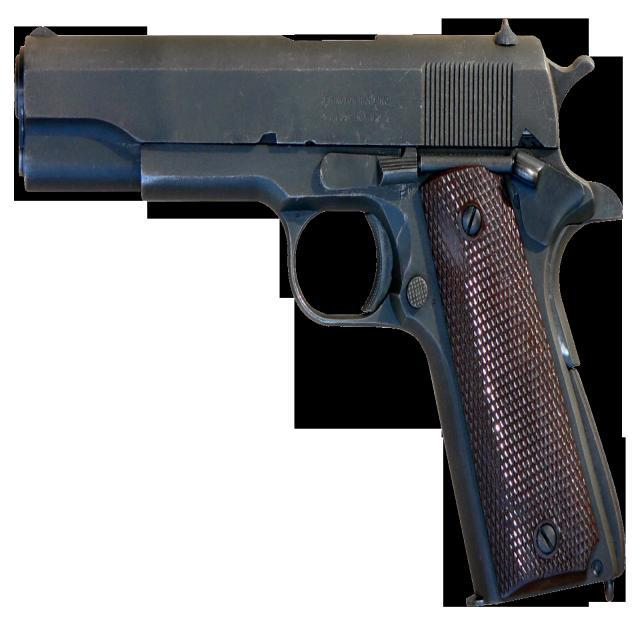Pistol: (11, 9, 640, 622)
